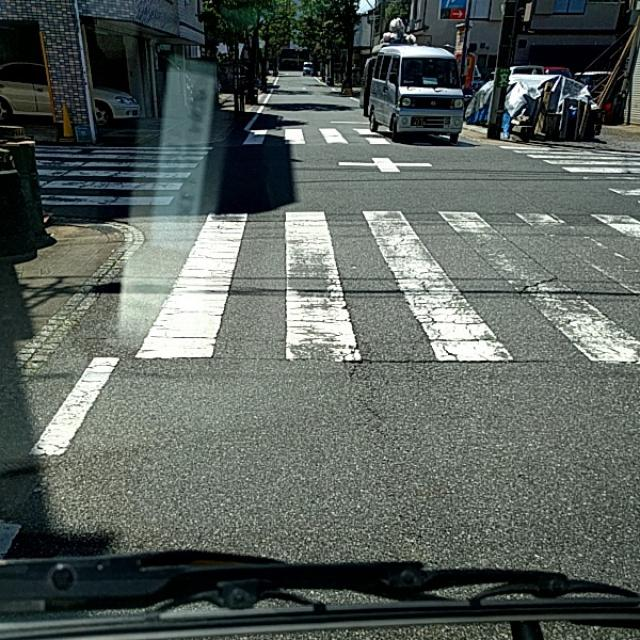pothole: (425, 284, 478, 366)
